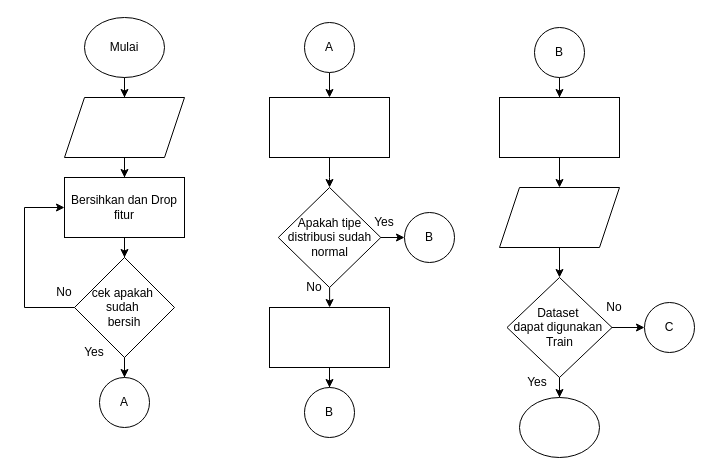
The diagram is 712 pixels wide and 475 high, and some of its shapes have lost their labels. Here are the shapes that lost their labels. From the top down, the centre of each, then its label:
point 124,127: Import dataset ke dataframe
point 329,127: Split dataset, lalu lakukan encoding
point 559,127: Terapkan standardscale untuk menyamakan nilai
point 559,217: simpan scaler untuk prediksi kedepan
point 329,337: Transform Log1p untuk fitur/target yang skewed
point 559,427: Evaluasi
